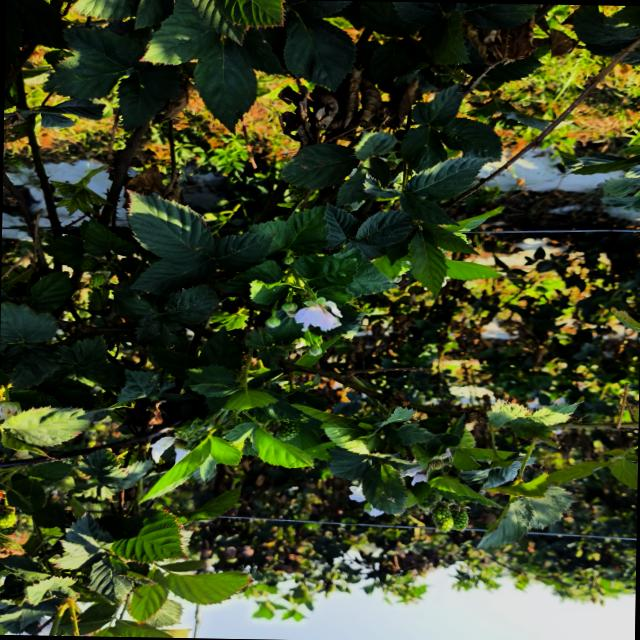boton: (265, 315, 280, 328), (281, 250, 294, 264), (306, 345, 322, 356), (281, 302, 297, 313)
flor: (294, 298, 341, 330)
